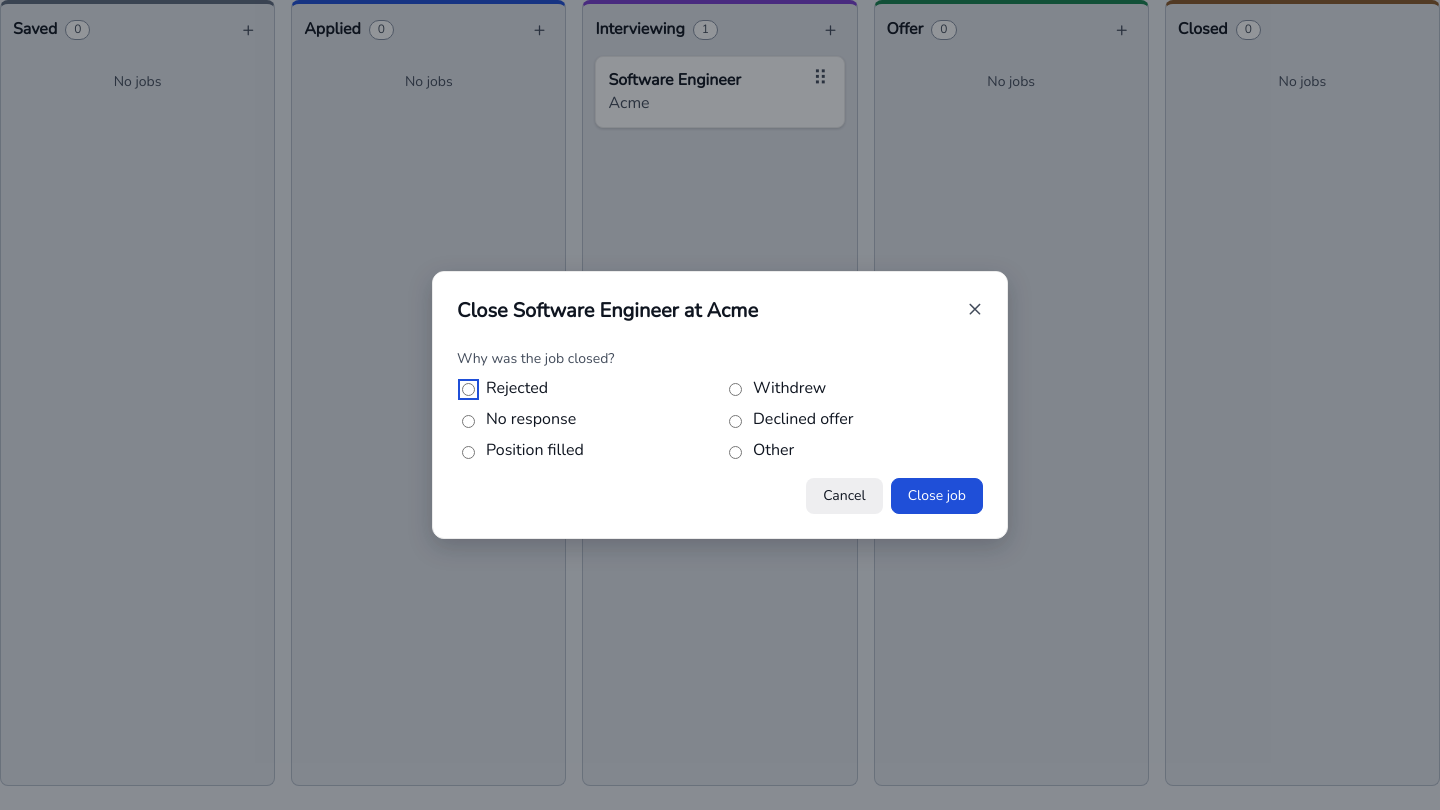
Test: Board › closing a job › asks for a reason and closes with withdrew
Step 1. Click the radio button labelled "Withdrew" → (736, 390), box [729,384,742,396]
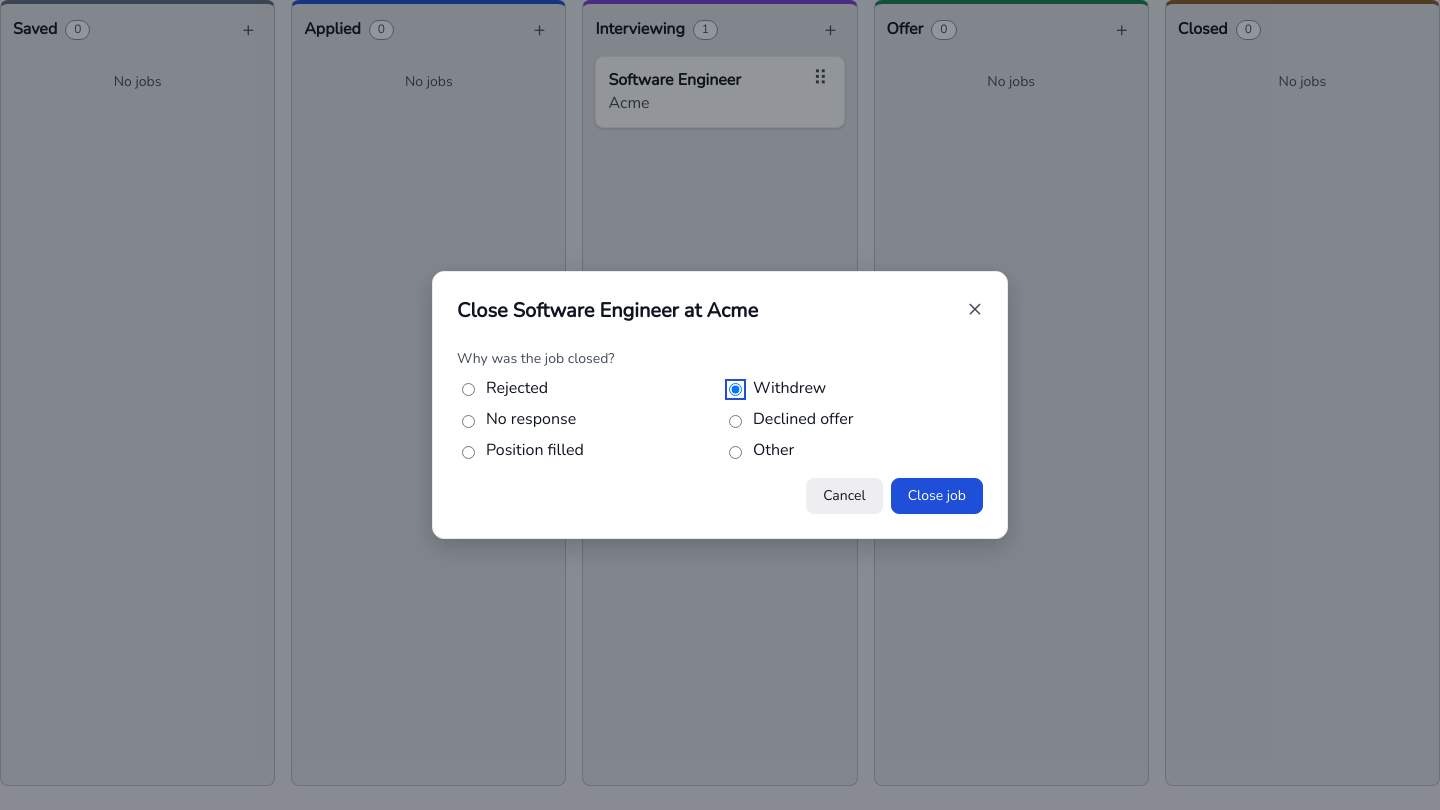
Step 2. Click the button "Close job" → (937, 496), box [891,478,983,514]
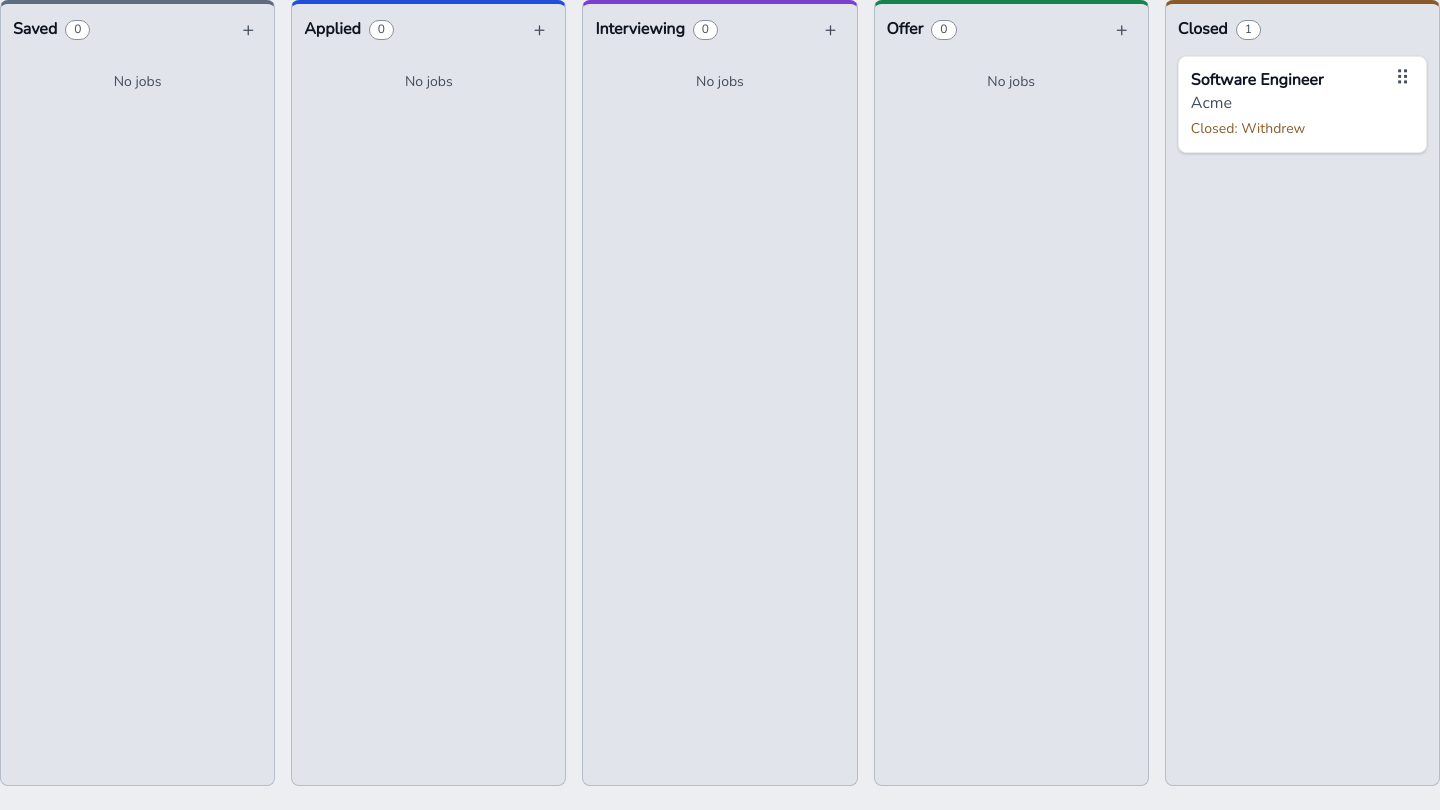
Expected: the dialog is gone
